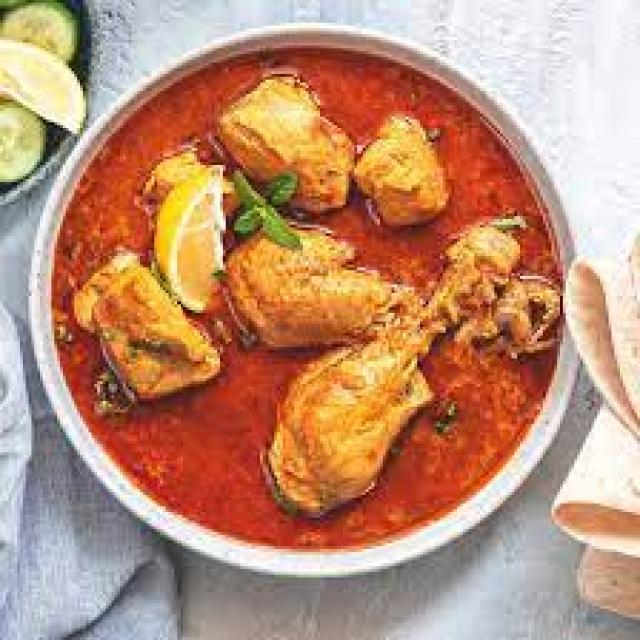Frango: (57, 37, 566, 546)
